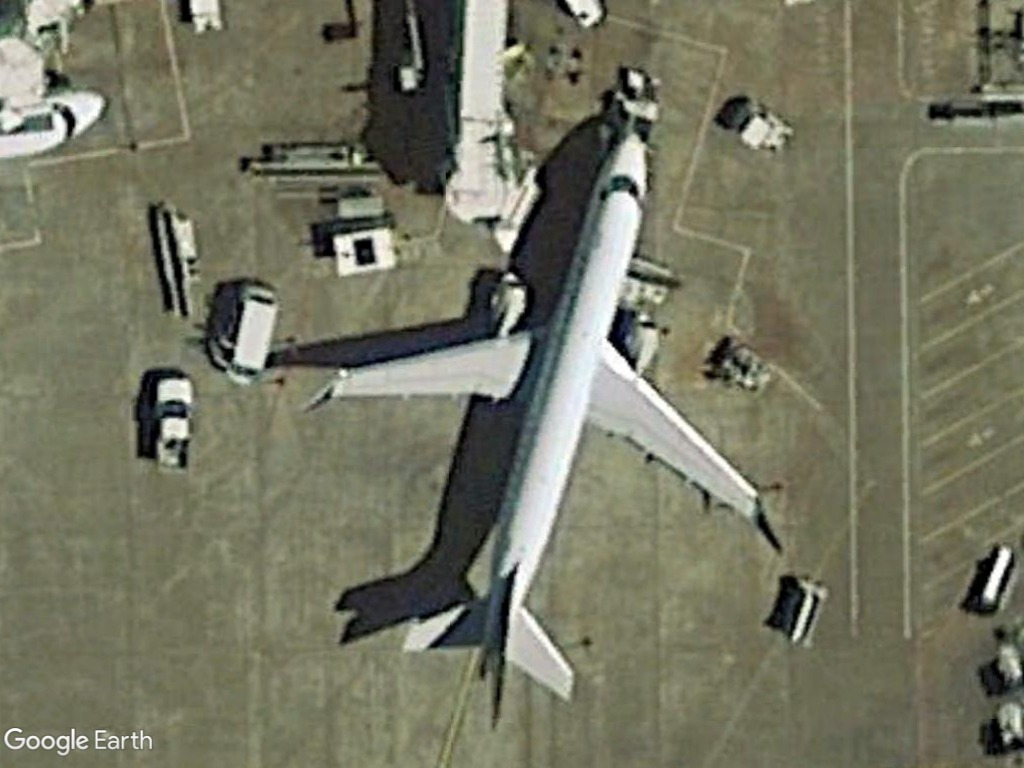airliner: (288, 123, 789, 731)
other: (148, 371, 201, 475)
